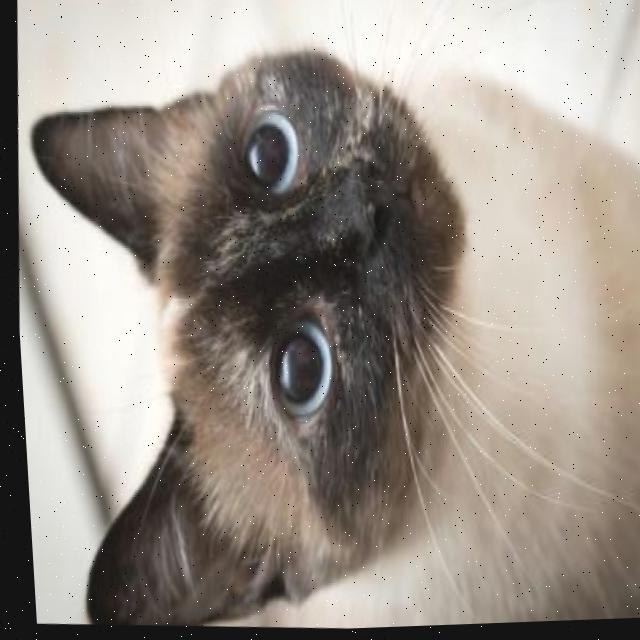Siamese: (2, 14, 640, 640)
